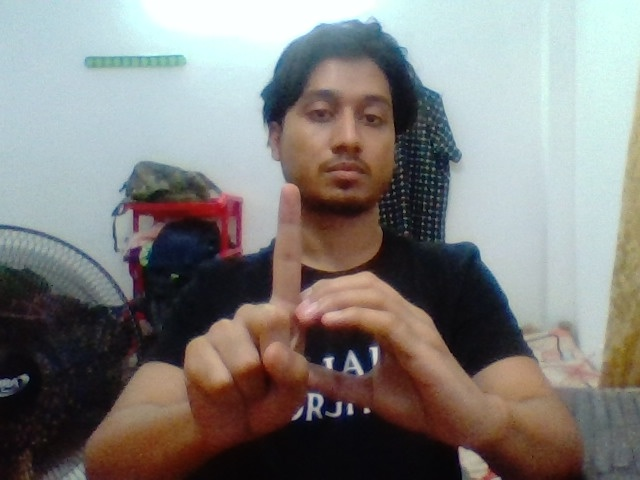D: (241, 167, 427, 429)
